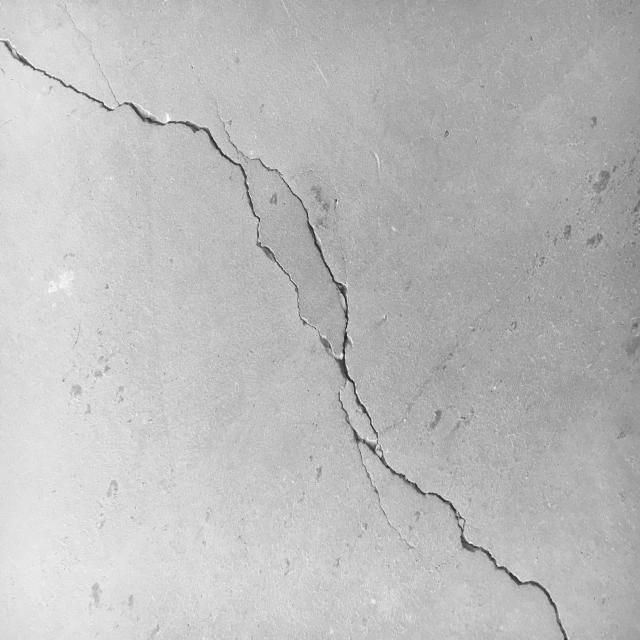SurfaceCrack: (0, 1, 620, 640)
